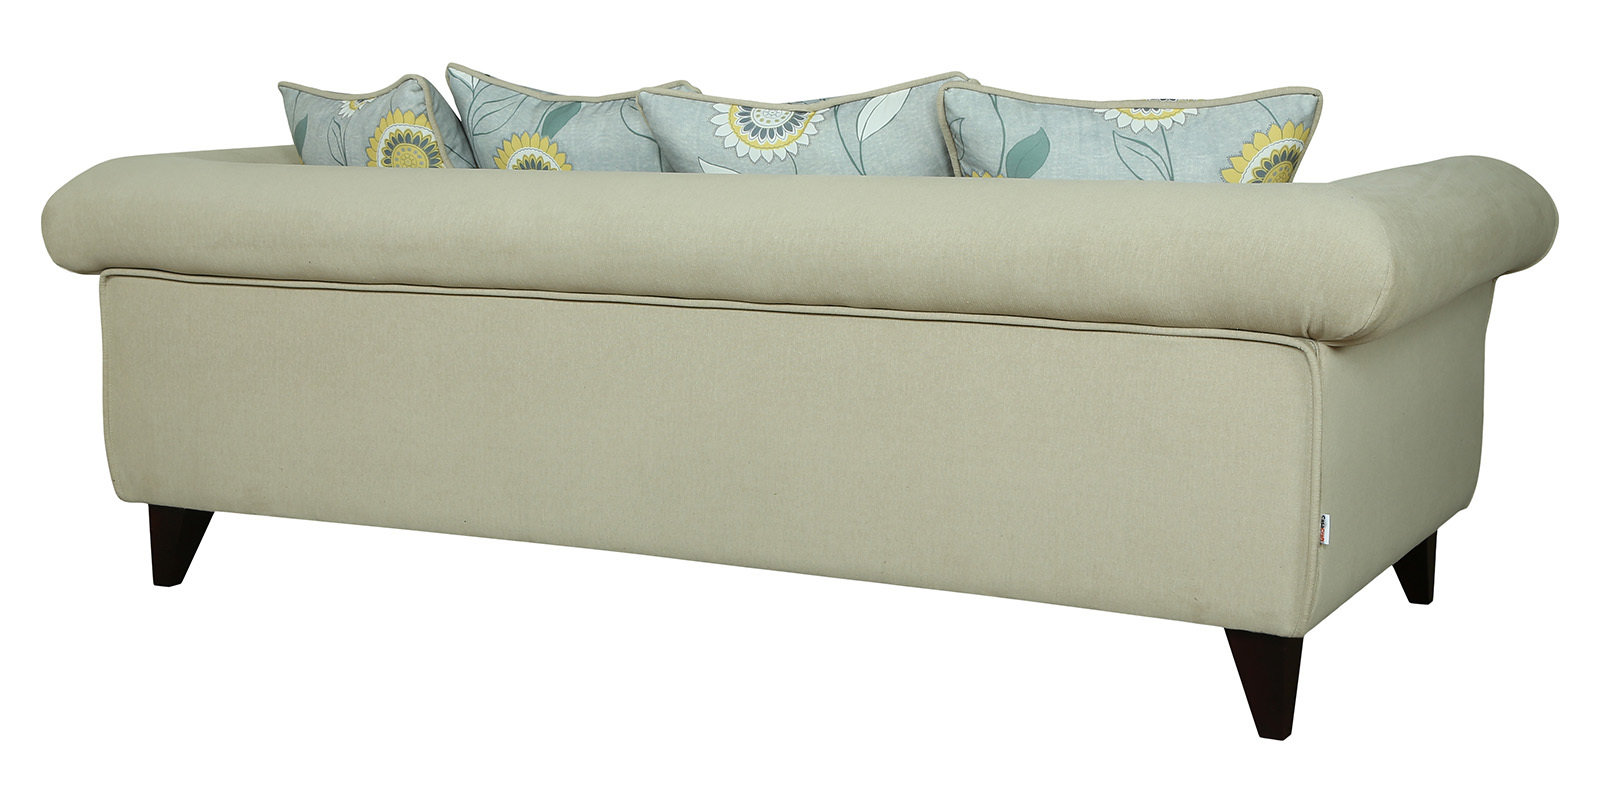Cielo Three Seater Sofa in Beige Colour by CasaCraft: (33, 55, 1570, 684)
